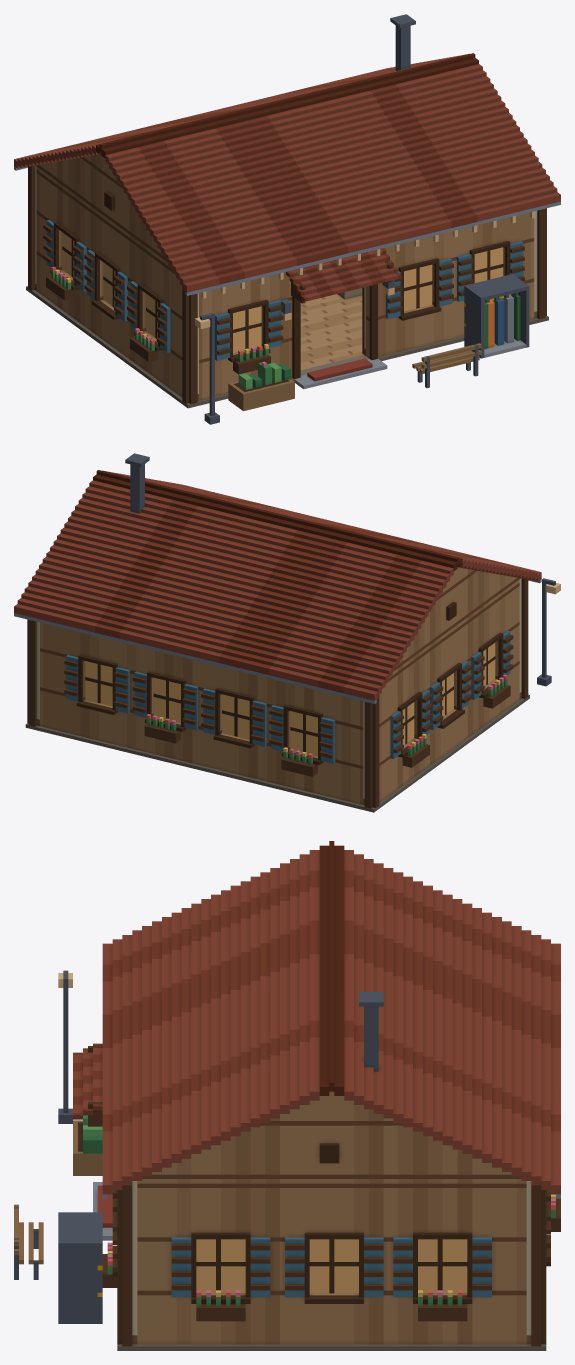
File: lab_e1_l1.glb
3 renders of one model, top to bottom at view 1: azimuth 30°, elevation 25°; view 2: azimuth 150°, elevation 25°; view 3: azimuth 270°, elevation 25°, orthographic. The views are drawn at different scales.
Visible parts, largest first — view 1: CutRoof, Base, CutPZ, CutNX, CutNZ; view 2: CutRoof, CutNZ, Base, CutNX, CutPZ; view 3: CutRoof, CutPX, Base, CutPZ, CutNZ.
Part boxes in pixels (box(x1,y1,x2,y2)): CutRoof: box(14, 14, 560, 298); Base: box(26, 258, 548, 424); CutPZ: box(182, 208, 546, 373); CutNX: box(36, 167, 182, 366); CutNZ: box(28, 165, 36, 260); CutRoof: box(14, 453, 541, 704); CutNZ: box(27, 619, 379, 779); Base: box(25, 578, 560, 812); CutNX: box(379, 579, 519, 772); CutPZ: box(519, 578, 528, 669); CutRoof: box(102, 841, 560, 1198); CutPX: box(137, 1179, 526, 1312); Base: box(14, 970, 560, 1350); CutPZ: box(73, 1043, 137, 1306); CutNZ: box(526, 1181, 560, 1306).
Size of the model in its own units: 11.8 by 7.2 by 11.1.
